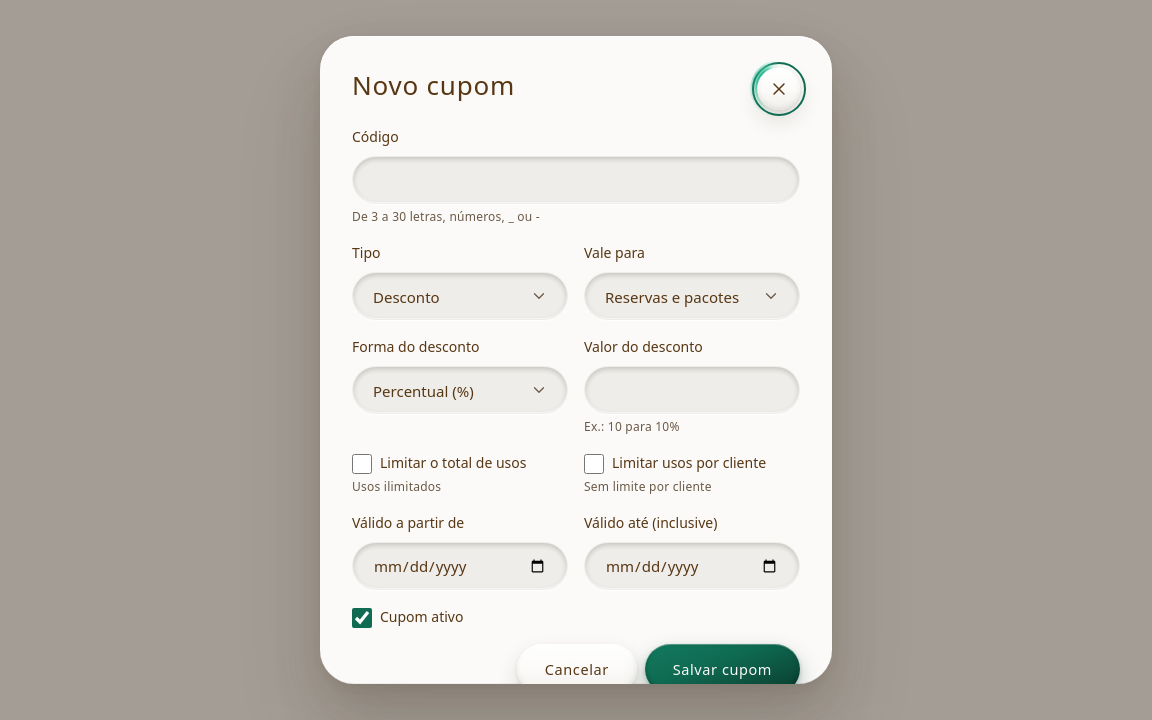
it: CouponFormModal create (REC-129) › shows the code rule and sends nothing for an invalid code
Step 1. Type "A!" into the field labelled "Código" → (576, 180), box 352,156 -> 800,204
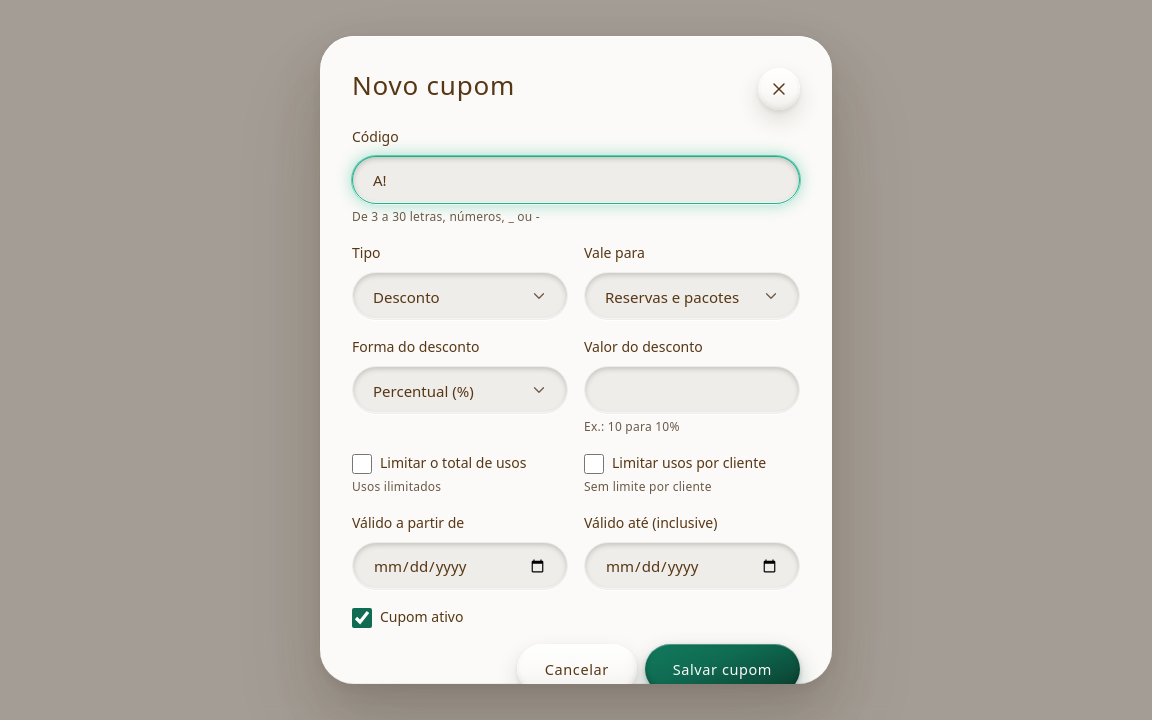
Step 2. Type "10" into the field labelled "Valor do desconto" → (692, 390), box 584,366 -> 800,414
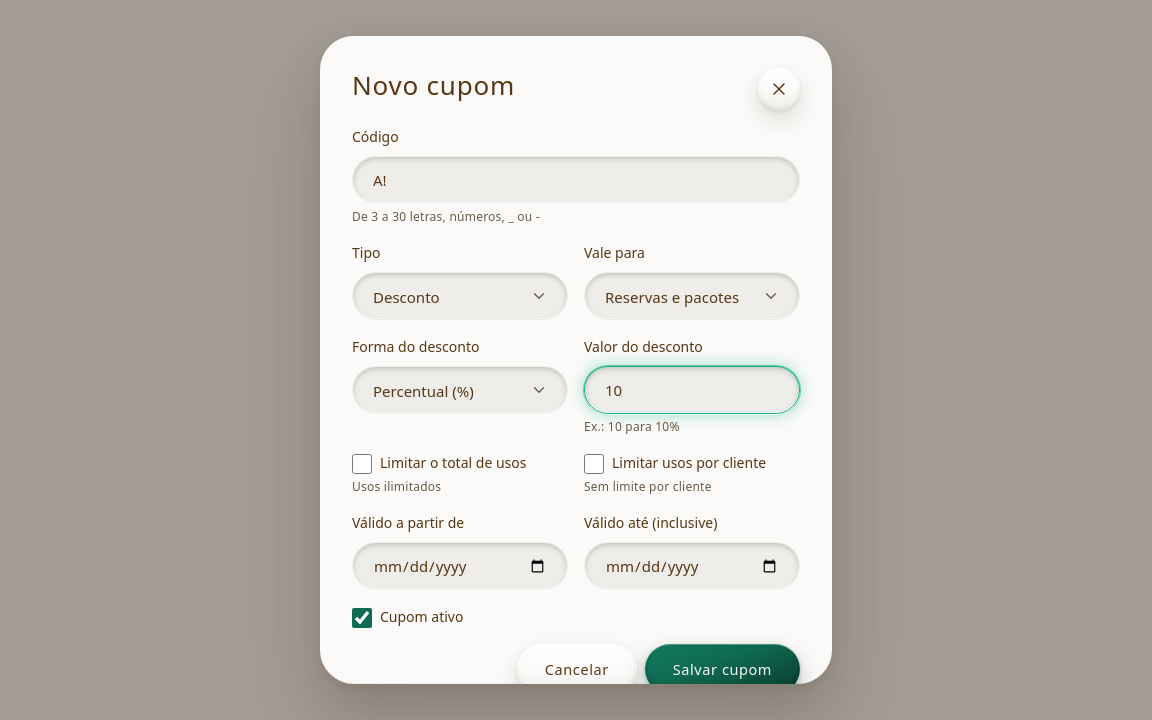
Step 3. Click the button "Salvar cupom" → (722, 669), box 645,644 -> 800,694
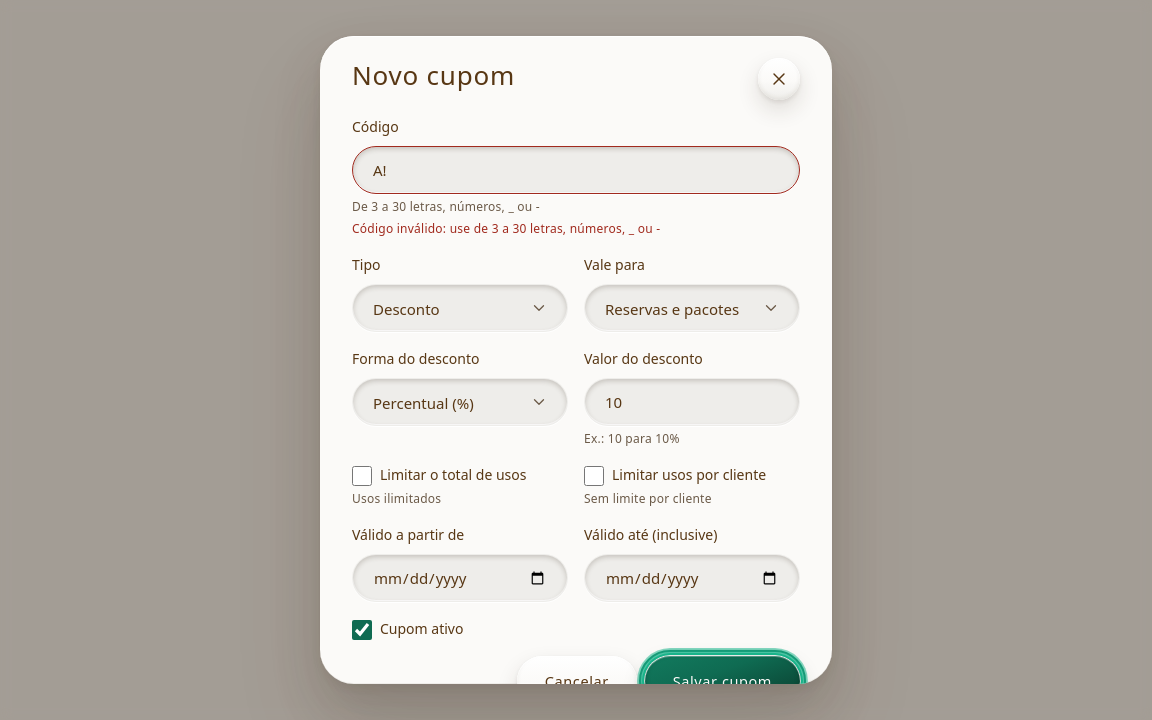
Result: the text "Código inválido: use de 3 a 30 letras, números, _ ou -" is shown at 352,220 -> 660,237
